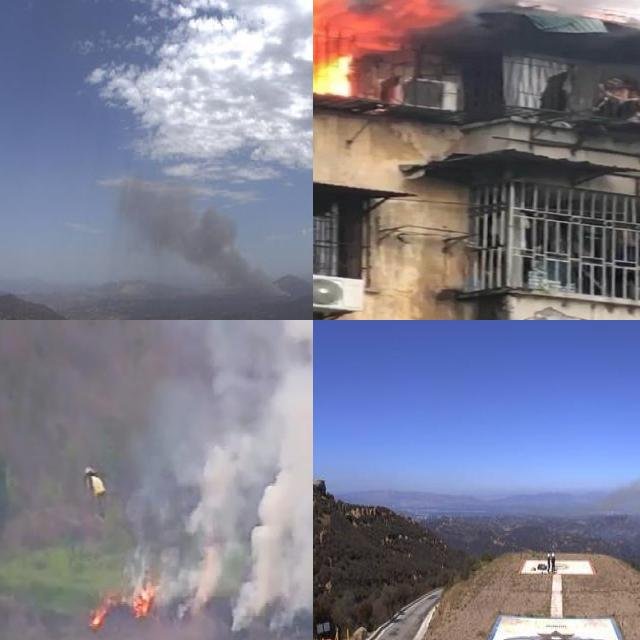fire: (313, 0, 416, 100), (88, 590, 116, 630), (127, 582, 153, 618)
smoke: (121, 320, 313, 631), (113, 156, 296, 312)
